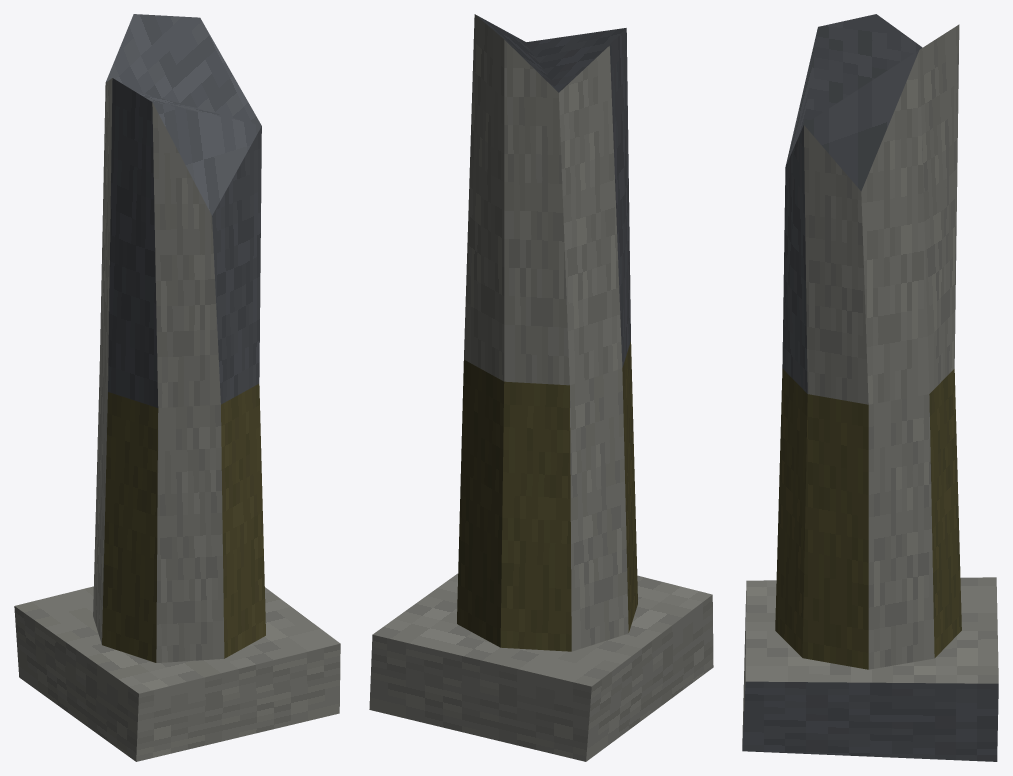
The model's file is ruins_pillar.glb.
3 renders of one model, left to right at view 1: azimuth 30°, elevation 25°; view 2: azimuth 150°, elevation 25°; view 3: azimuth 270°, elevation 25°, orthographic. The views are drawn at different scales.
Parts seen in each view (by area): view 1: ruins_pillar; view 2: ruins_pillar; view 3: ruins_pillar.
Boxes of the visible parts, x1,y1,x2,y2 form: ruins_pillar: (14, 14, 340, 761); ruins_pillar: (369, 14, 713, 761); ruins_pillar: (742, 14, 998, 761).
Size of the model in its own units: 1.04 by 3.06 by 1.04.
1 material, 1 textured.
